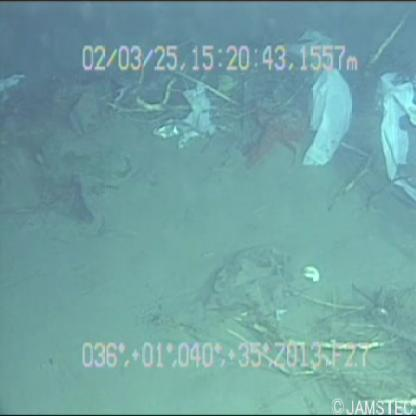Rác: (271, 21, 352, 172), (371, 62, 416, 202), (150, 78, 223, 164)
